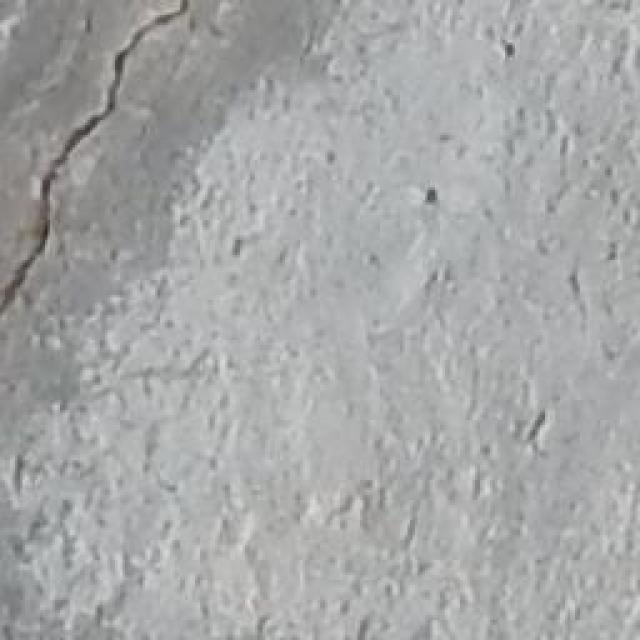concrete-crack: (4, 0, 194, 323)
